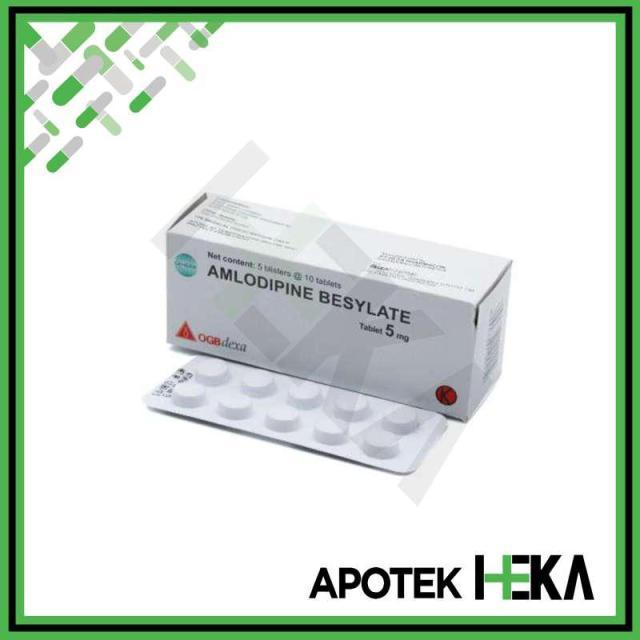drug-name: (204, 262, 317, 305)
